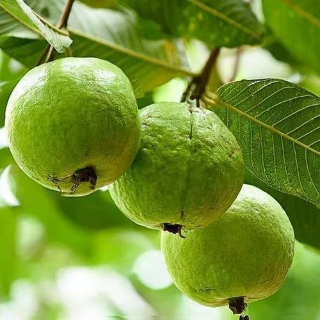oi: (1, 57, 143, 196), (101, 101, 247, 234), (156, 182, 298, 315)
